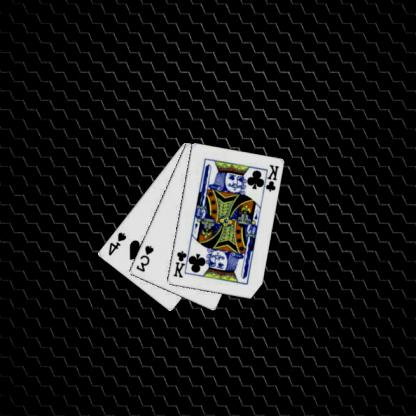3S: (135, 243, 156, 273)
4S: (108, 230, 129, 257)
KC: (261, 162, 282, 195), (172, 247, 193, 279)
